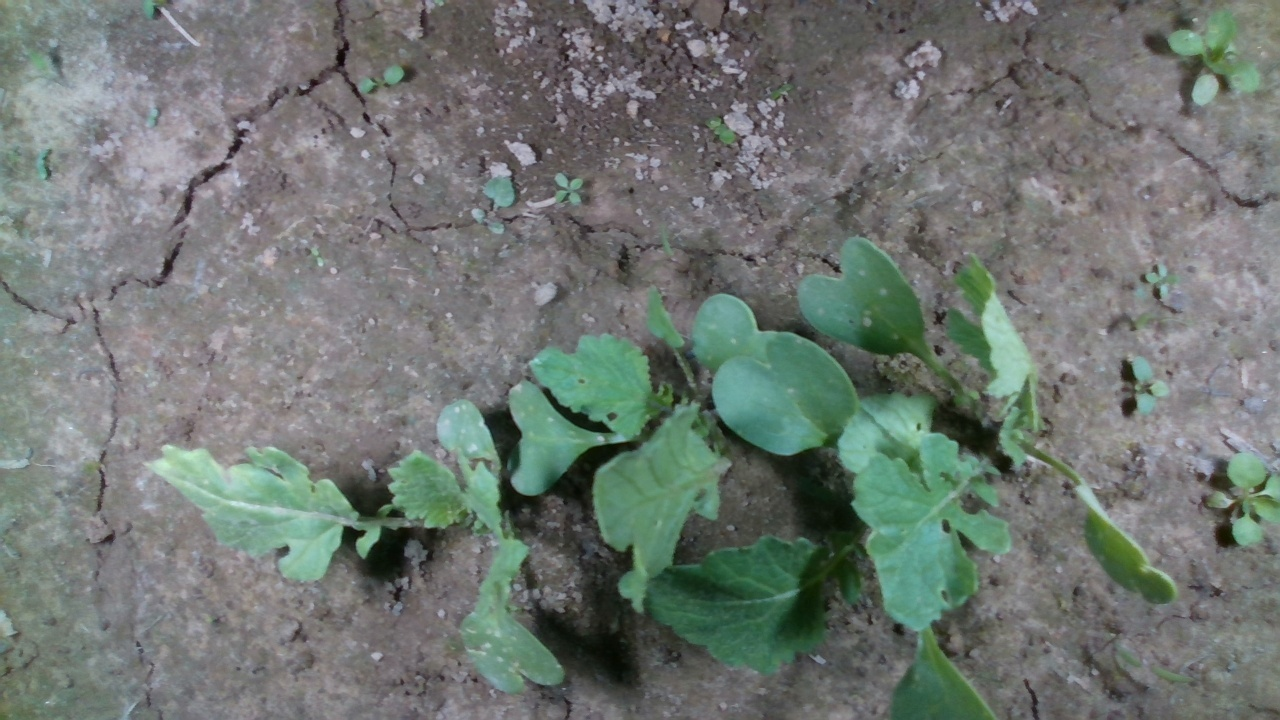weed: (1127, 355, 1168, 417), (357, 63, 407, 95), (1143, 261, 1180, 301), (552, 171, 586, 206)
